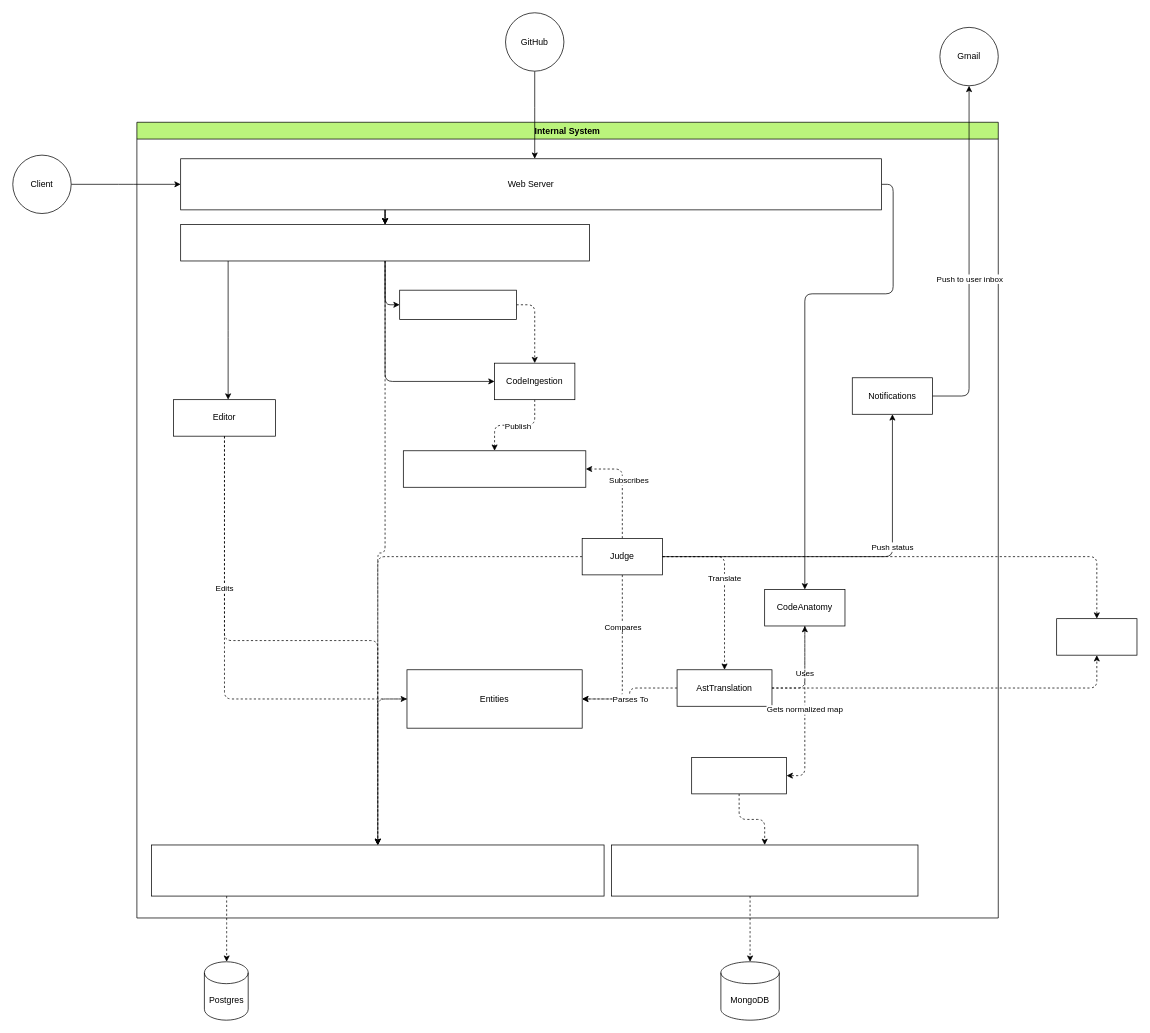
The diagram is 1150 pixels wide and 1033 high, and some of its shapes have lost their labels. The centre of each missing label's shape, as x and y in pixels:
AI Service: (x=1096, y=636)
Auth: (x=384, y=242)
CodePool: (x=494, y=468)
DocumentDbContext: (x=764, y=870)
GitHubIngestionAdapter: (x=457, y=304)
GrammerMapper: (x=739, y=775)
RelationalDbContext: (x=377, y=870)
